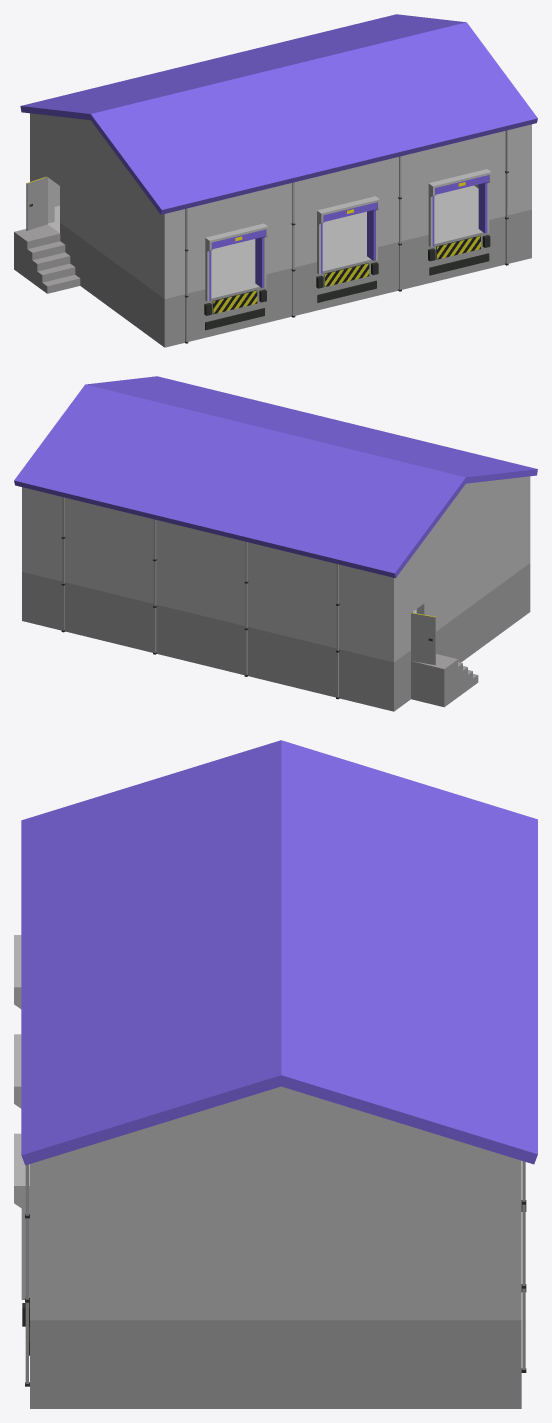
Rendered from warehouse.glb.
3 views of the same model, one above another, from view 1: azimuth 30°, elevation 25°; view 2: azimuth 150°, elevation 25°; view 3: azimuth 270°, elevation 25° (orthographic). The views are drawn at different scales.
Visible parts, largest first — view 1: Building; view 2: Building; view 3: Building.
Part boxes in pixels (x1,y1,x2,y2): Building: (14,14,537,347); Building: (14,376,537,711); Building: (14,740,537,1408).
Bounding box in the file's own units: 15.93 × 6.96 × 9.81.
Materials: 1 (1 with a texture image).
